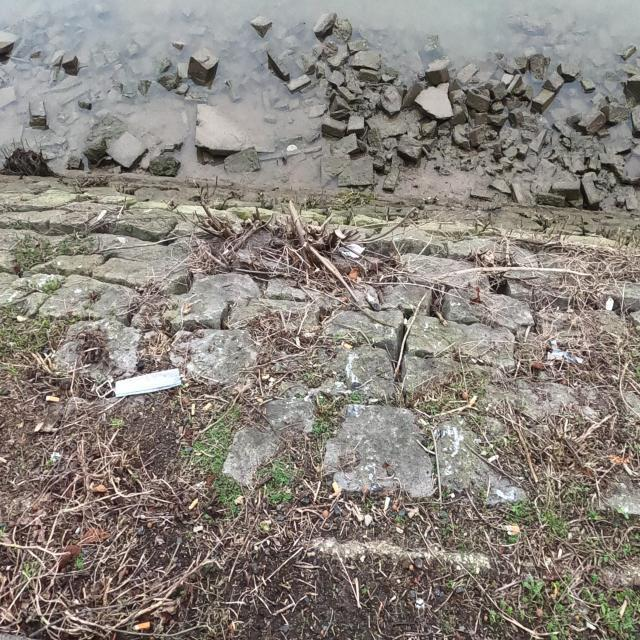Mask: (95, 366, 182, 399)
